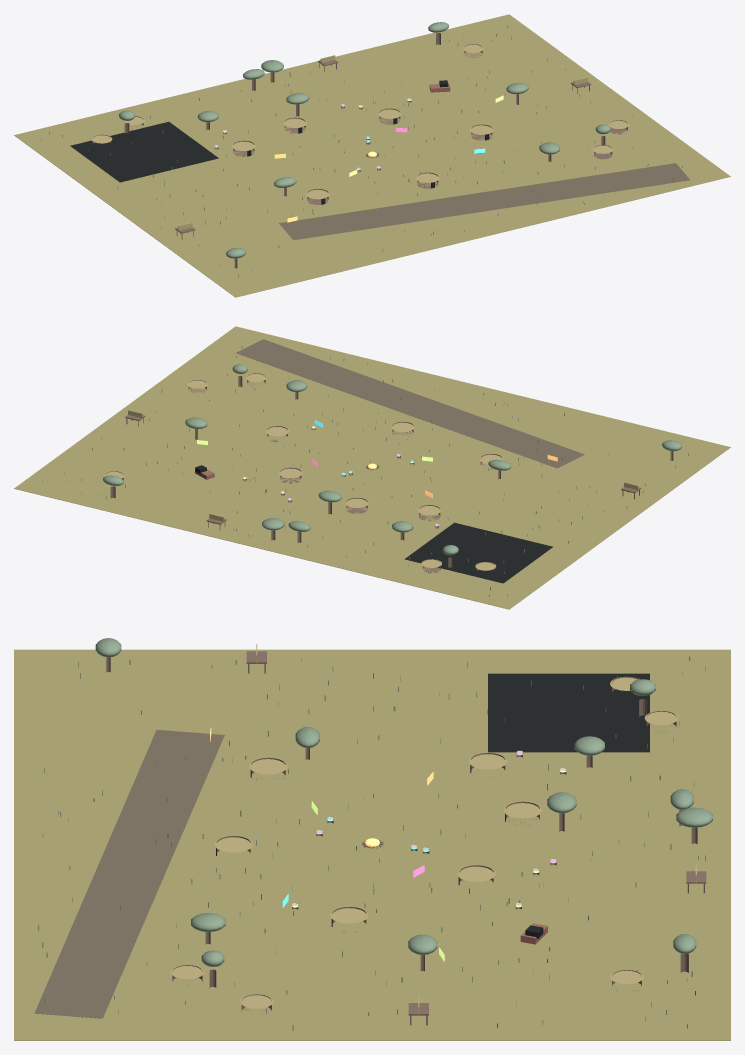
Rendered from level_05_noite_sem_tambores_savanna.glb.
3 renders of one model, top to bottom at view 1: azimuth 30°, elevation 25°; view 2: azimuth 150°, elevation 25°; view 3: azimuth 270°, elevation 25°, orthographic. The views are drawn at different scales.
Parts seen in each view (by area): view 1: wide_savanna_ground, dry_riverbed_winding_path, burned_grass_clearing; view 2: wide_savanna_ground, dry_riverbed_winding_path, burned_grass_clearing; view 3: wide_savanna_ground, dry_riverbed_winding_path, burned_grass_clearing.
Boxes of the visible parts, bbox=[...] form: wide_savanna_ground: bbox=[14, 14, 730, 297]; dry_riverbed_winding_path: bbox=[279, 163, 690, 240]; burned_grass_clearing: bbox=[70, 121, 218, 182]; wide_savanna_ground: bbox=[14, 326, 730, 609]; dry_riverbed_winding_path: bbox=[236, 339, 584, 468]; burned_grass_clearing: bbox=[404, 522, 552, 583]; wide_savanna_ground: bbox=[14, 649, 730, 1040]; dry_riverbed_winding_path: bbox=[34, 729, 224, 1018]; burned_grass_clearing: bbox=[488, 673, 649, 752].
Bounding box in the file's own units: 160 × 7.16 × 124.
